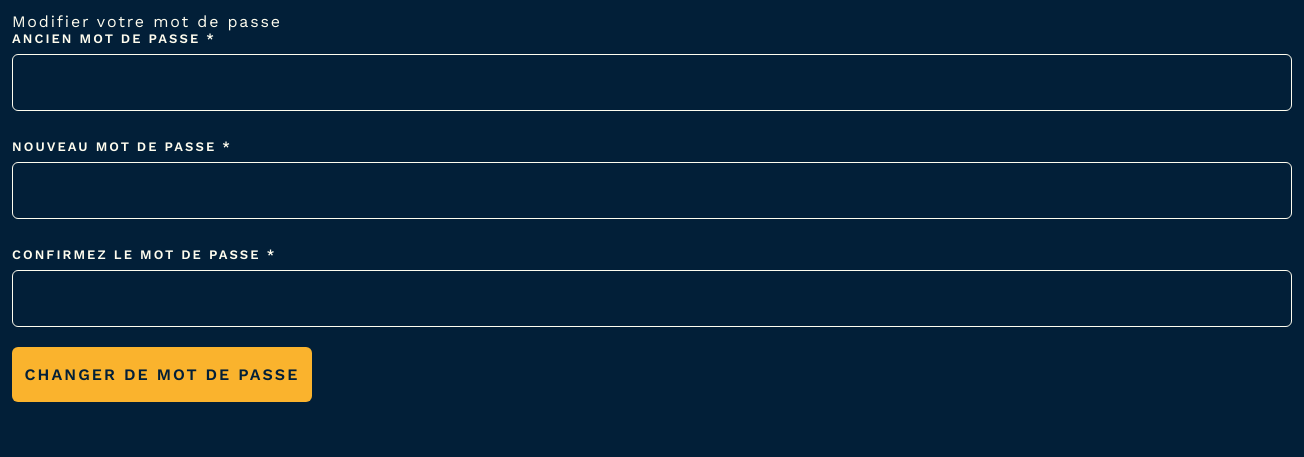
Scenario: UpdateProfileForm component tests › should set new password bis error if field is empty
Type "awesomePassword" into the password field labelled "Ancien mot de passe *". click: (652, 82)
box: [12,54,1292,111]
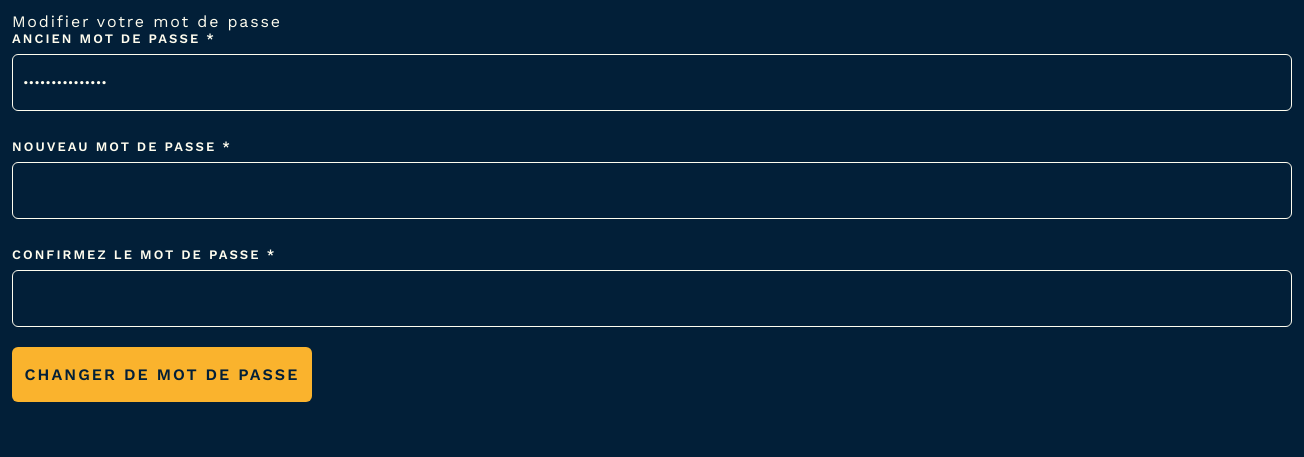
Type "newPassword" into the password field labelled "Nouveau mot de passe *". click: (652, 190)
box: [12,162,1292,219]
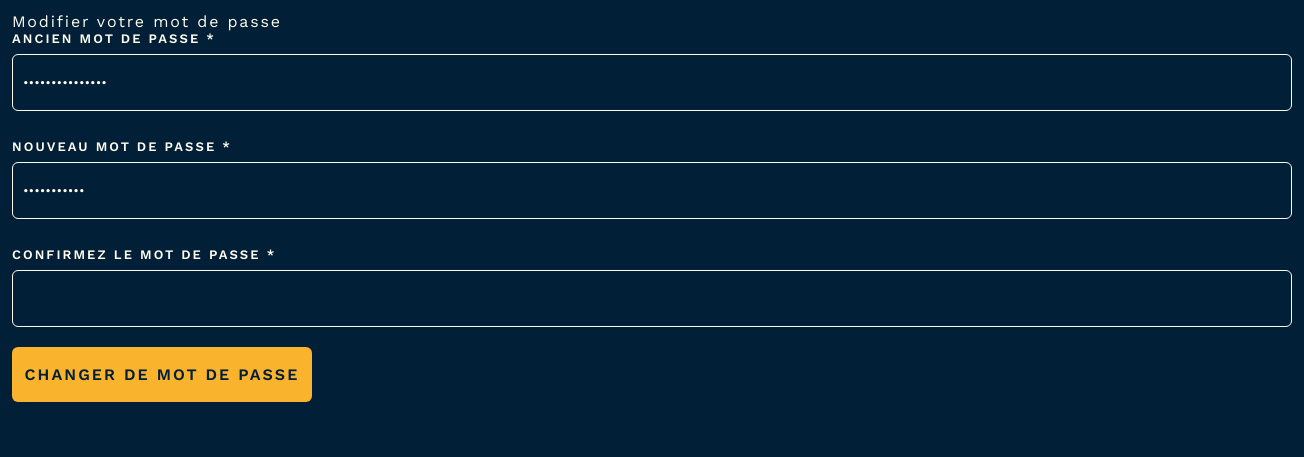
Submit the form from the button "Changer de mot de passe", box [12,347,312,402]
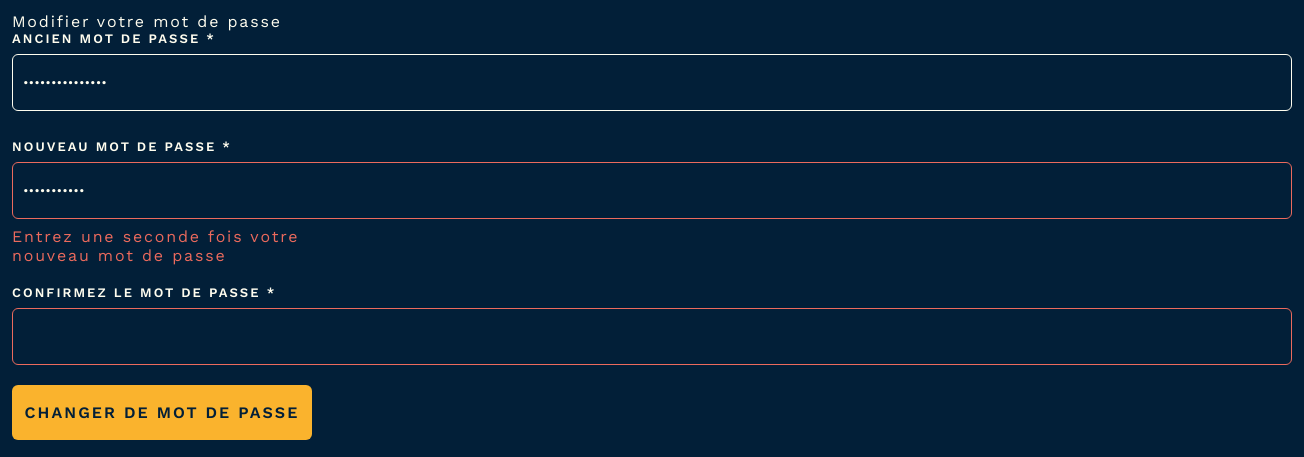
expect the text "Entrez une seconde fois votre nouveau mot de passe" is shown: met, box [12,227,312,265]
